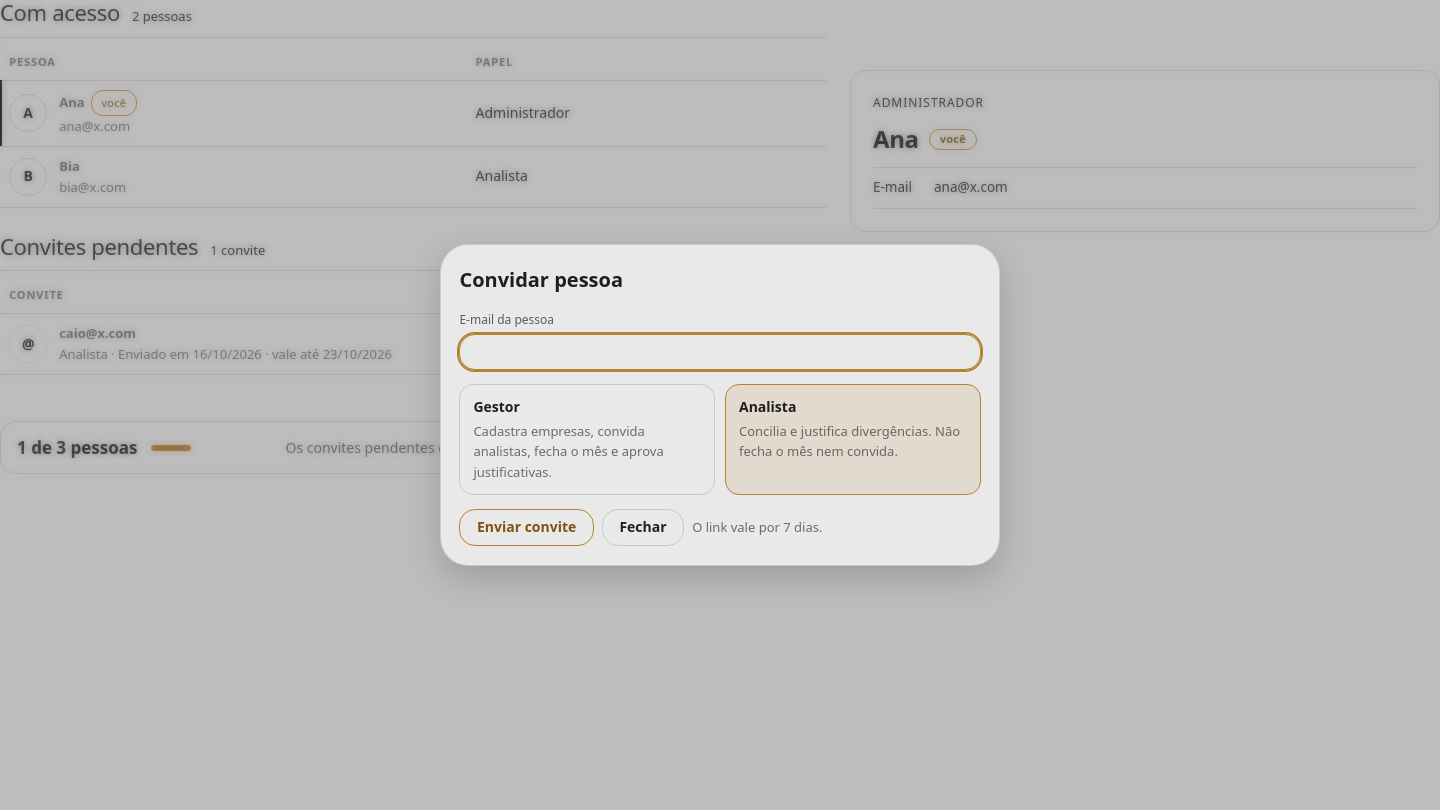
Test: a faixa do plano para pessoas › o 402 do backend ao convidar mostra o texto dele
Expected: the button "Bia" is shown, [59, 156, 80, 176]
Step 1. Type "novo@x.com" into the field labelled "E-mail da pessoa" → (720, 352), box [459, 334, 981, 370]
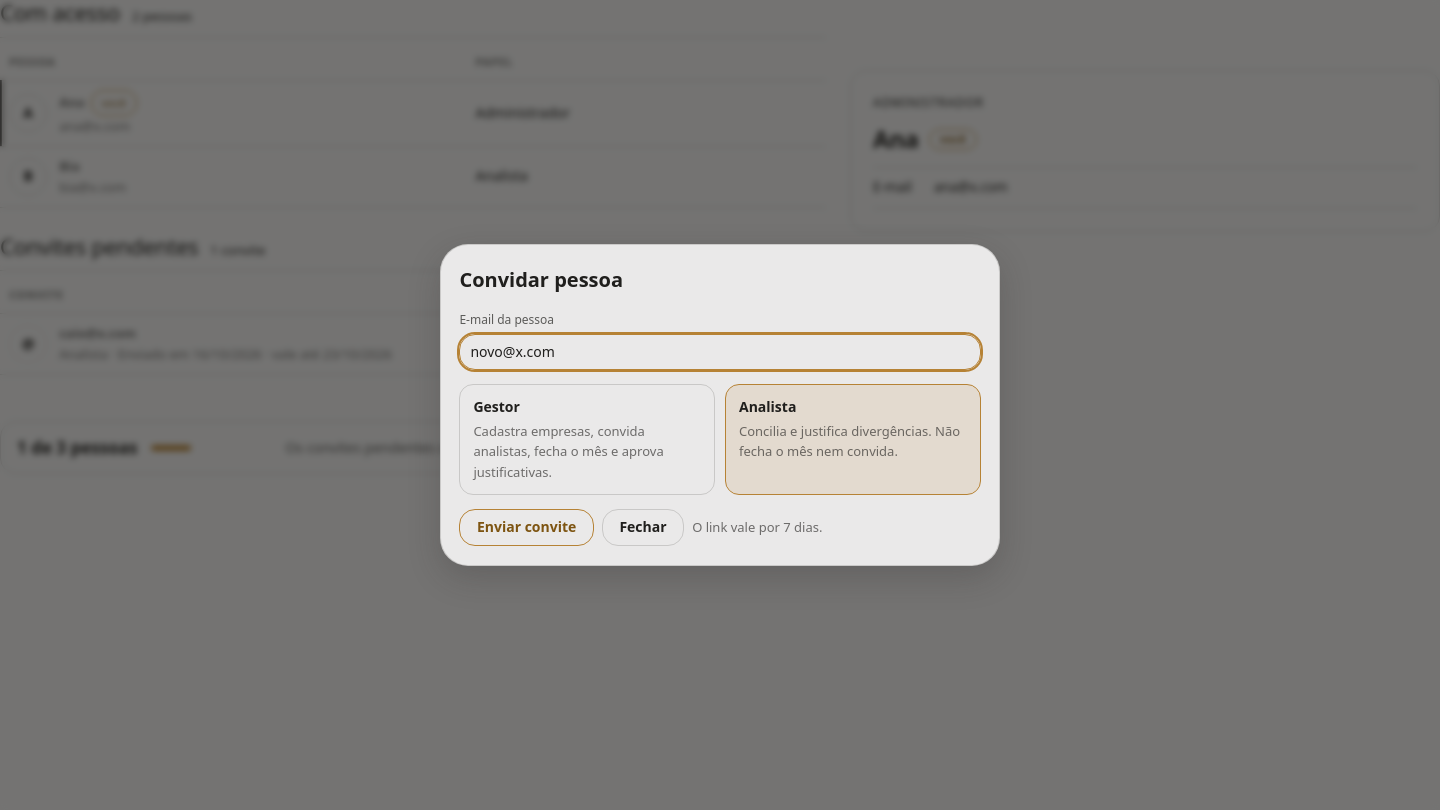
Step 2. Click the button "Enviar convite" → (527, 528), box [459, 509, 594, 546]
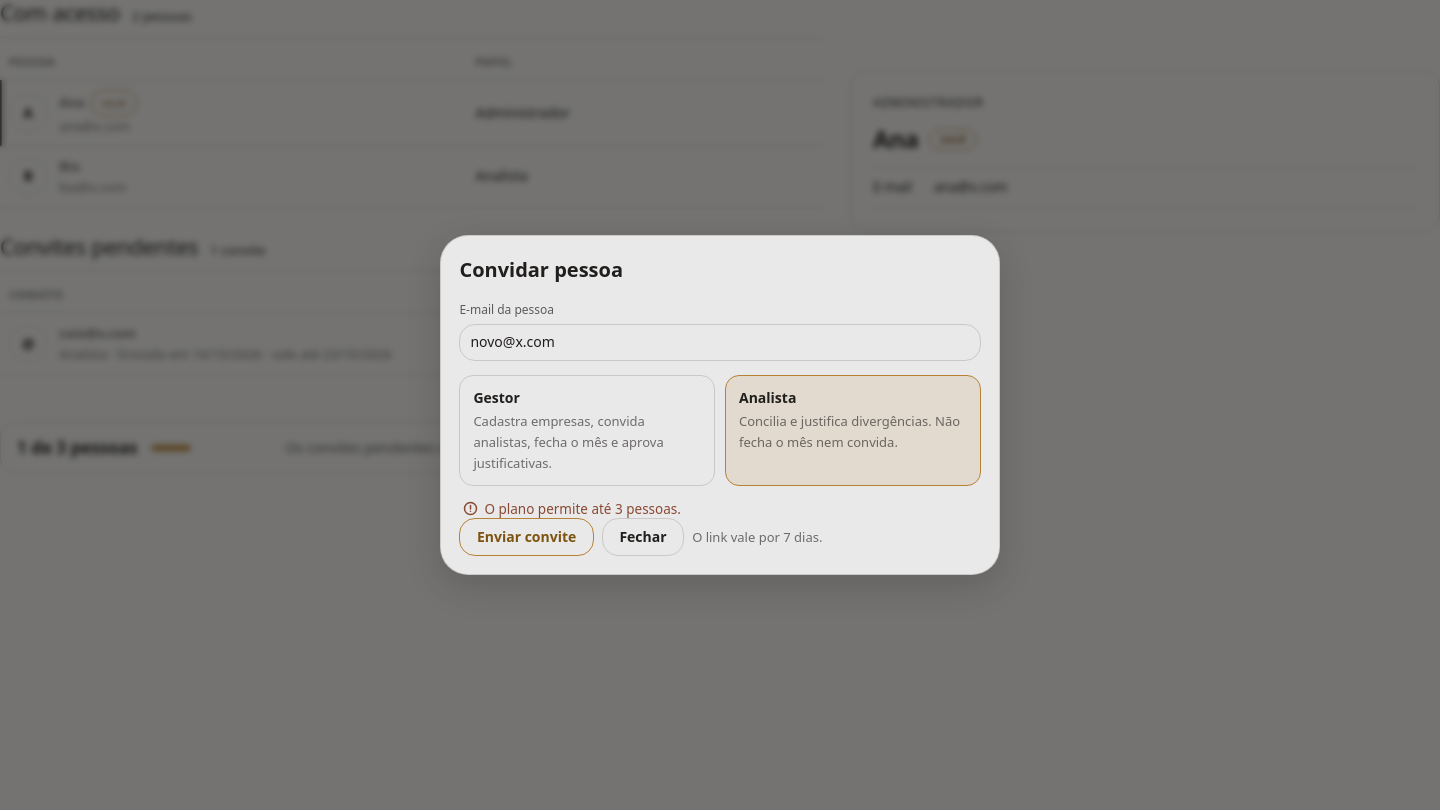
Result: the text "O plano permite até 3 pessoas." is shown at [484, 500, 681, 518]
